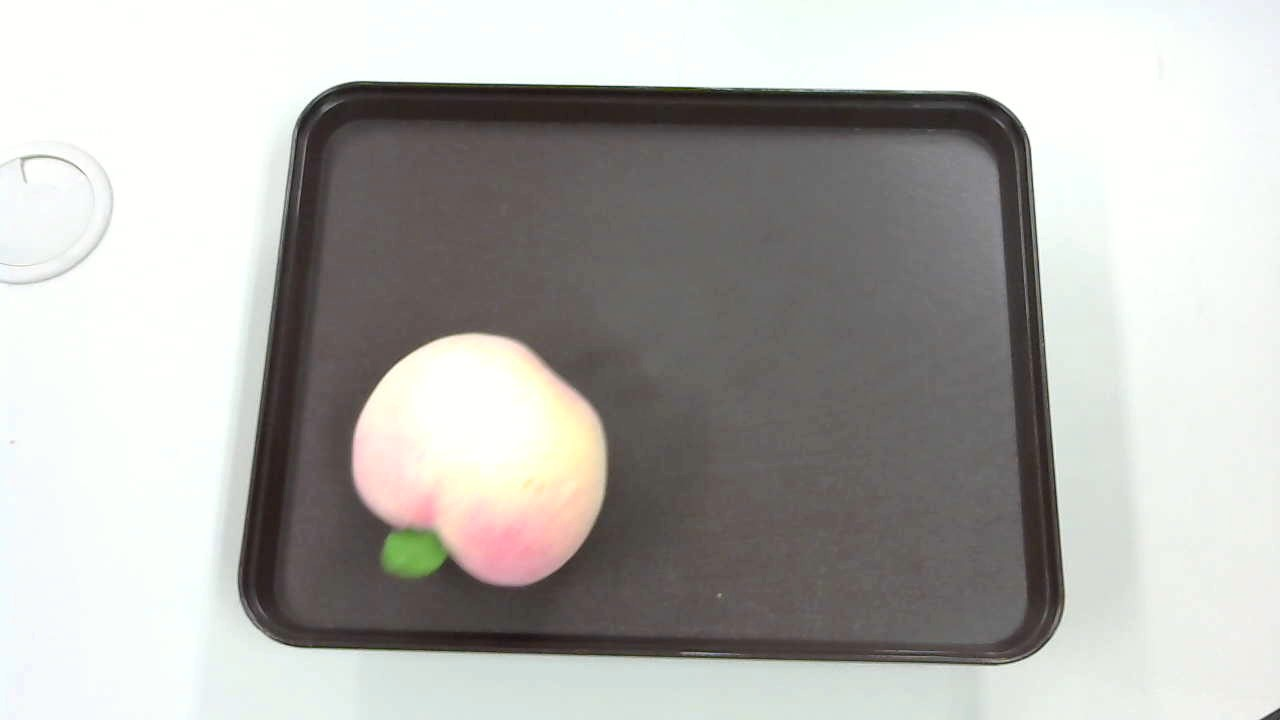peach: (339, 324, 618, 602)
